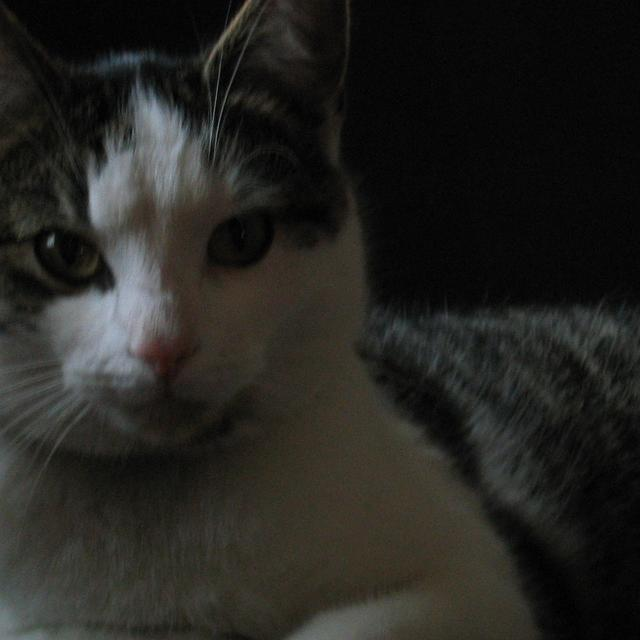animals: (0, 0, 336, 373)
